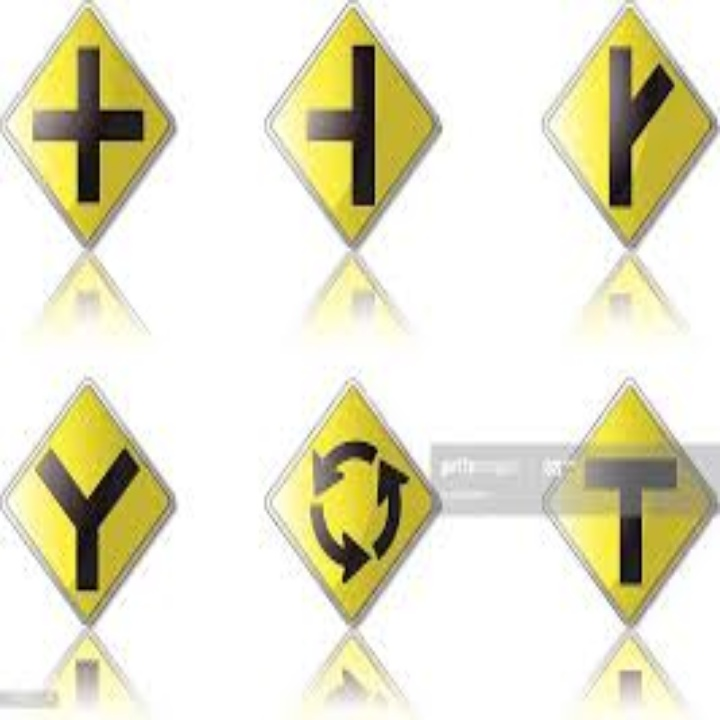inter: (27, 37, 153, 209)
